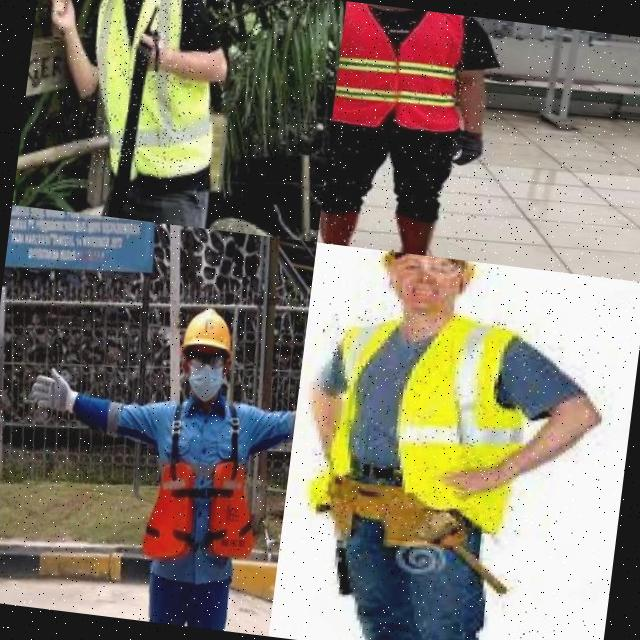boots: (392, 210, 458, 258), (316, 205, 366, 248)
helmet: (172, 292, 245, 365)
vest: (299, 298, 541, 544), (76, 0, 208, 180), (331, 0, 474, 142), (136, 449, 264, 568)
